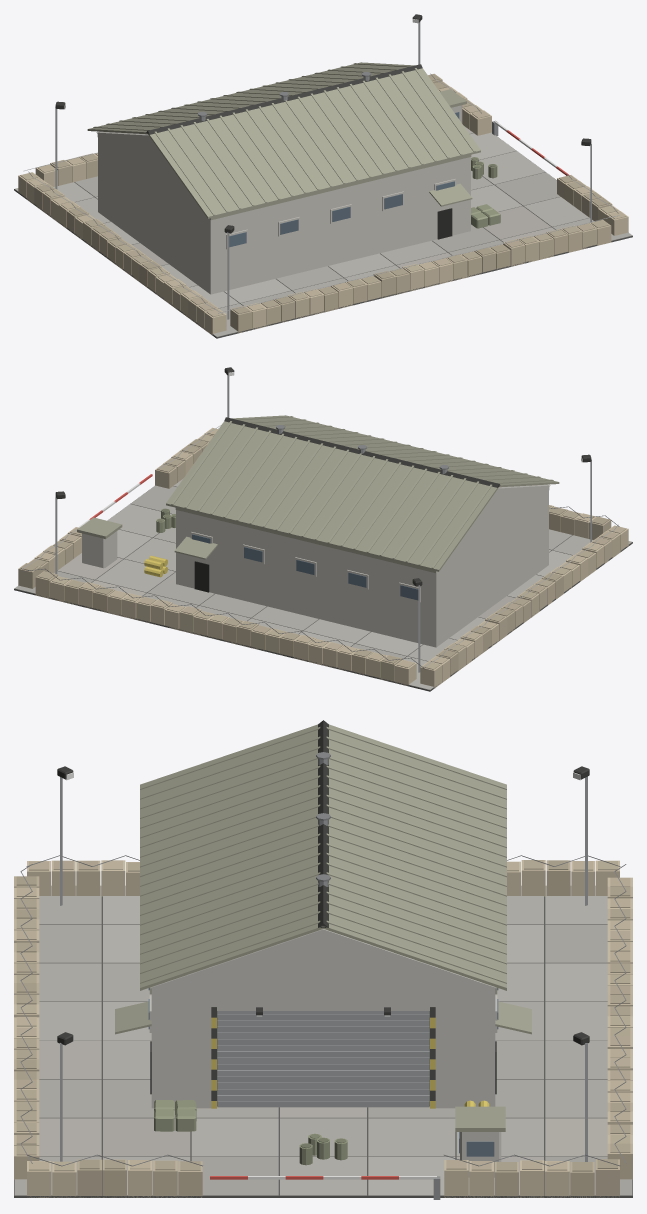
File: b_howshop.glb
3 views of the same model, one above another, from view 1: azimuth 30°, elevation 25°; view 2: azimuth 150°, elevation 25°; view 3: azimuth 270°, elevation 25° (orthographic). The views are drawn at different scales.
Parts seen in each view (by area): view 1: hull; view 2: hull; view 3: hull, door.
Part boxes in pixels (x1=…): hull: x1=14, y1=14, x2=632, y2=338; hull: x1=14, y1=367, x2=632, y2=691; hull: x1=14, y1=720, x2=632, y2=1199; door: x1=217, y1=1011, x2=429, y2=1107.
Bounding box in the file's own units: 32.2 × 9.52 × 27.
